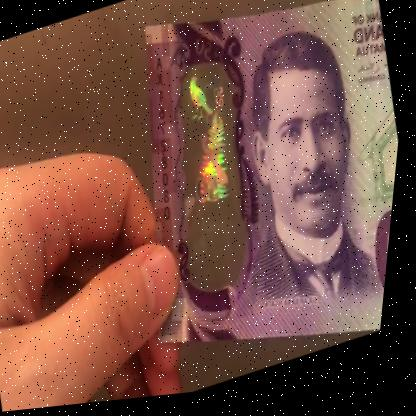50F: (157, 61, 275, 290)
